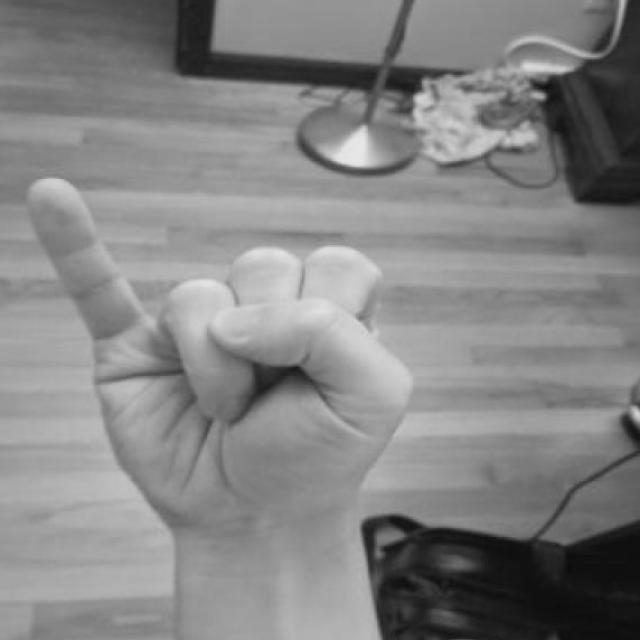I: (23, 172, 422, 560)
